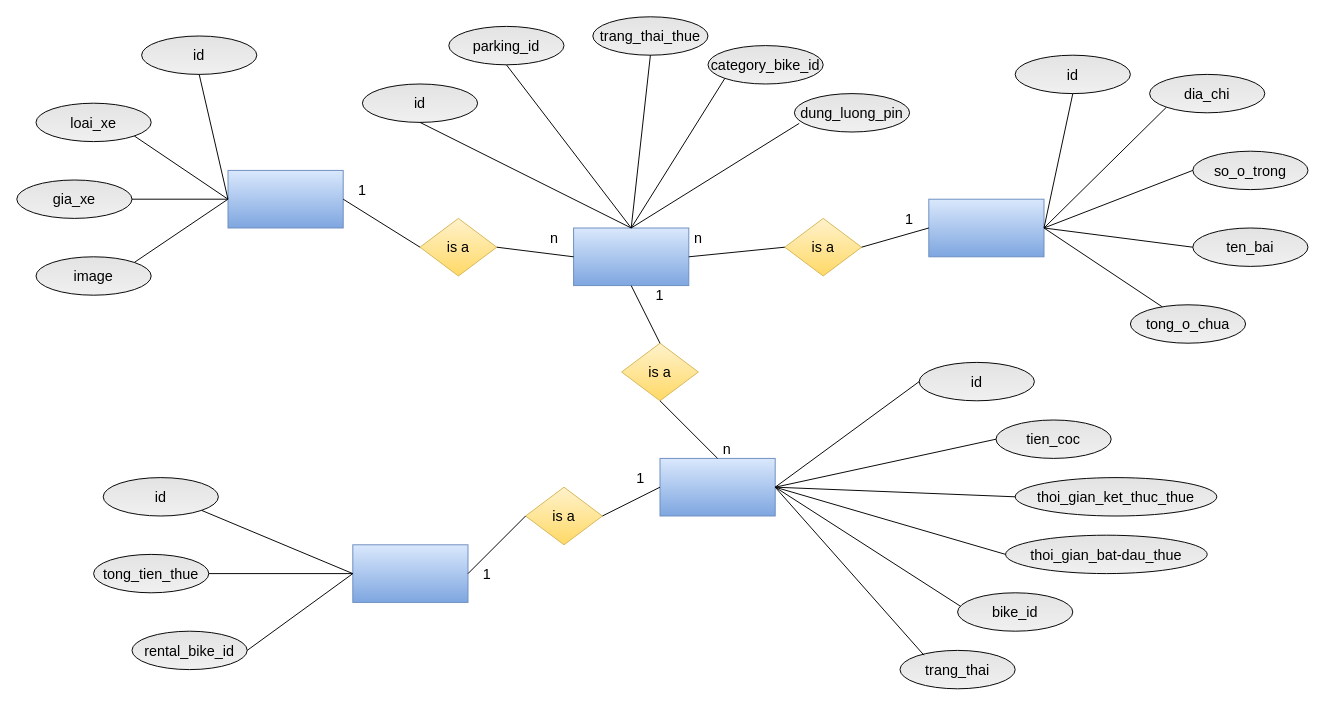
Image size: 1325x706. Some labels were removed from this diagram. Each missing label, with the centre of its shape:
Bike: (631,256)
Category_bike: (285,198)
Invoice: (410,573)
Parking: (986,227)
Rental_bike: (717,486)
